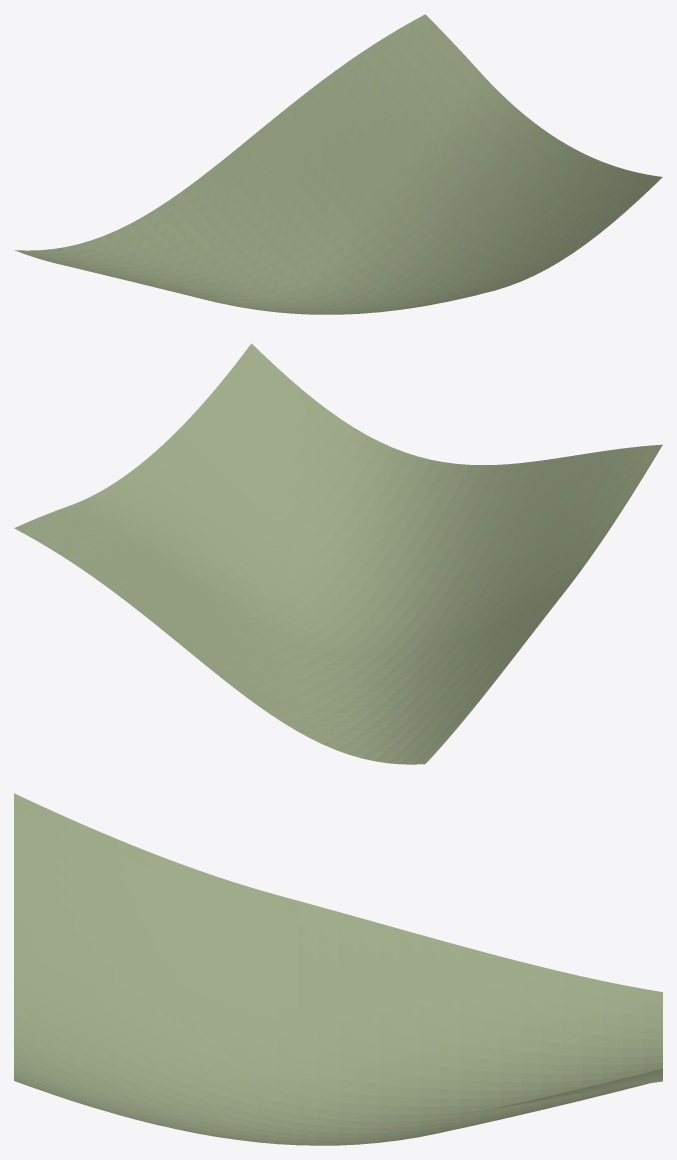
File: expanse-15-1.glb
3 renders of one model, top to bottom at view 1: azimuth 30°, elevation 25°; view 2: azimuth 150°, elevation 25°; view 3: azimuth 270°, elevation 25°, orthographic. The views are drawn at different scales.
Visible parts, largest first — view 1: expanse-15-1; view 2: expanse-15-1; view 3: expanse-15-1.
Boxes of the visible parts, x1,y1,x2,y2 form: expanse-15-1: (14,14,662,314); expanse-15-1: (14,343,662,764); expanse-15-1: (14,793,662,1145).
Size of the model in its own units: 256 by 92.99 by 256.
